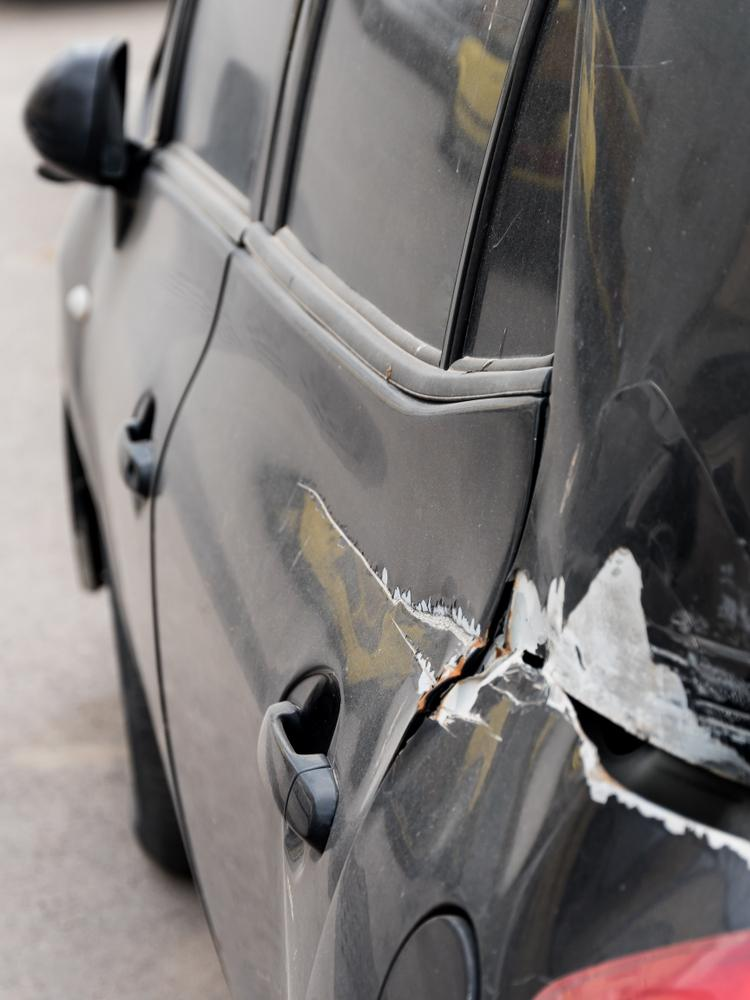crack: (546, 680, 750, 847)
scratch: (430, 558, 750, 772), (286, 464, 488, 697)
